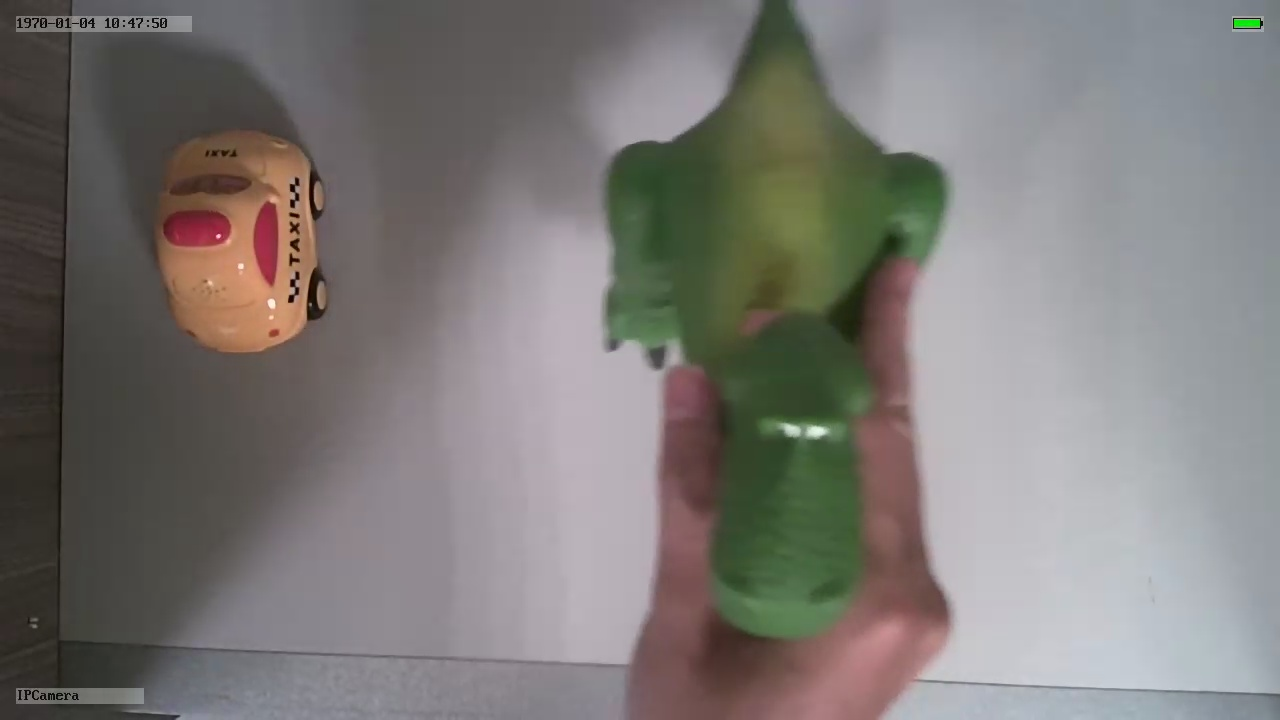car: (155, 124, 328, 355)
